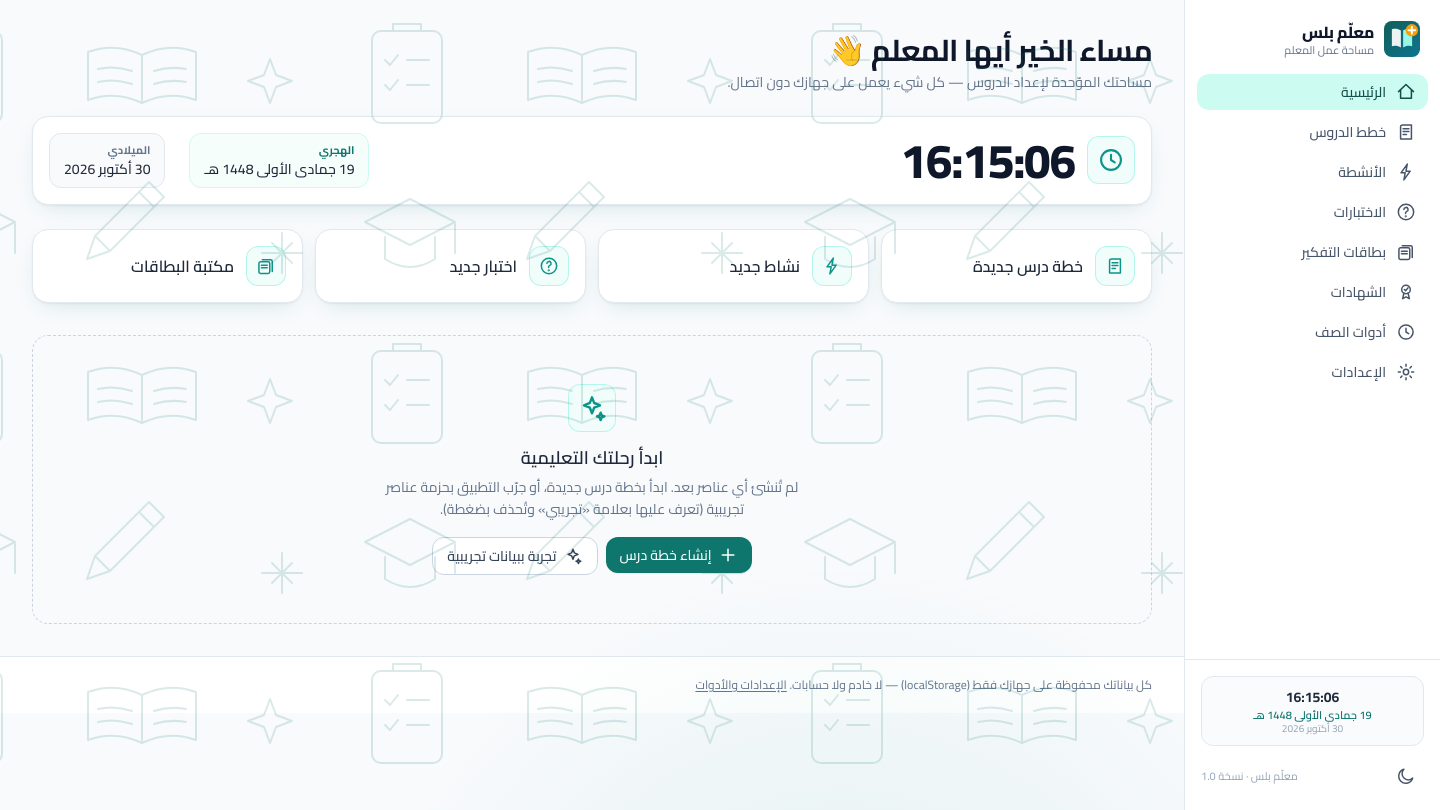
Scenario: قائمة الشهادات › القائمة الفارغة تعرض حالة إرشادية بوضوح
Step 1. Click the link "الشهادات" → [1373, 292], box [1331,279,1416,305]
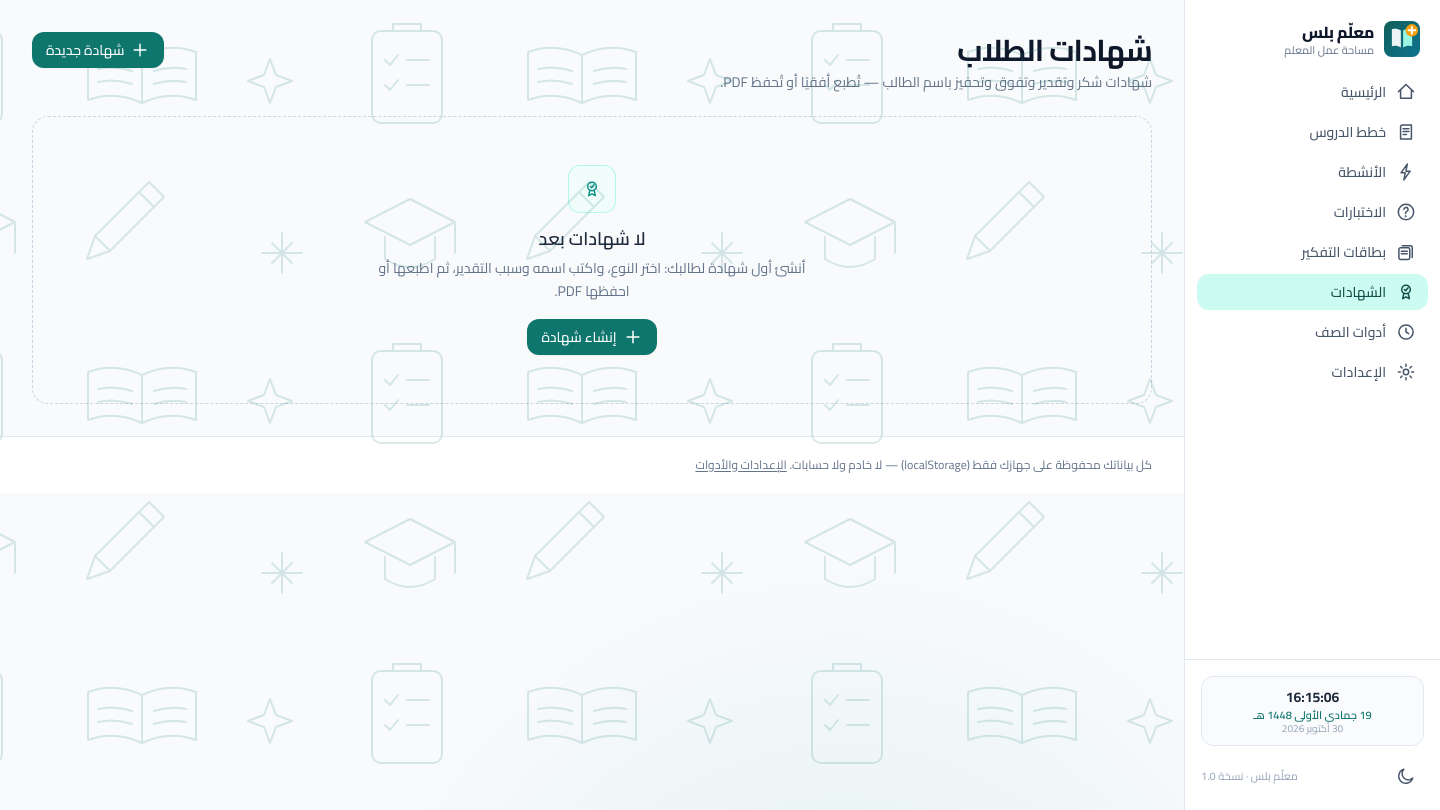
Expected: the heading "لا شهادات بعد" is shown, [538,225,646,253]
Expected: the button "إنشاء شهادة" is shown, [527,318,657,354]
